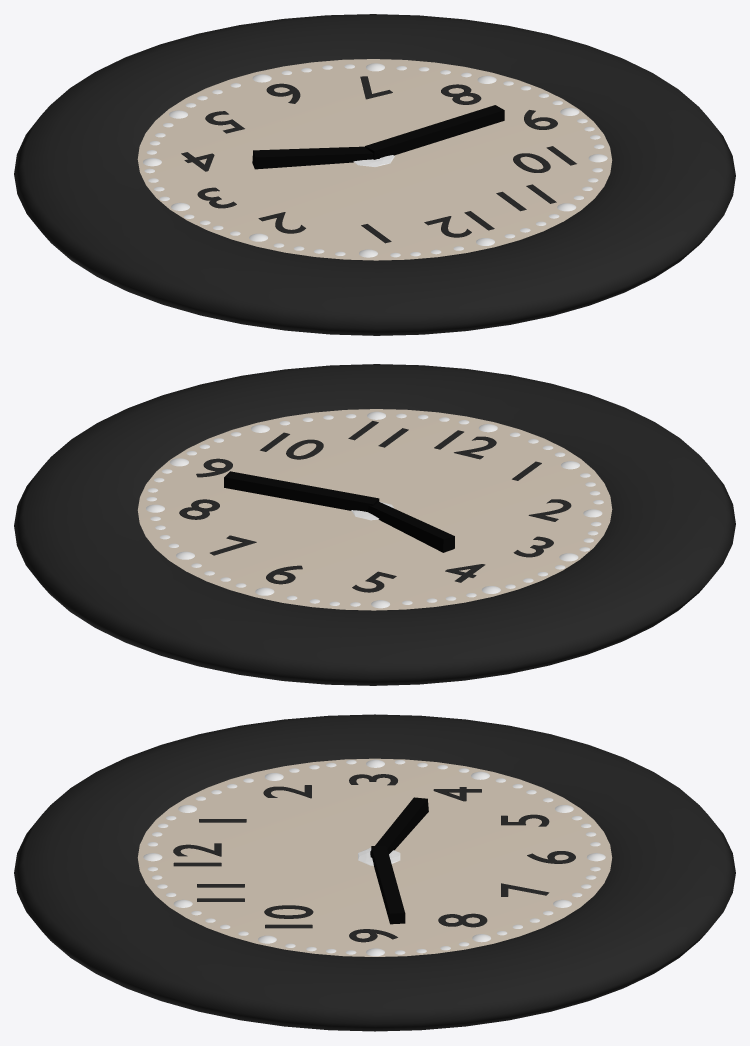
File: LBSR_Clock.fbx
3 renders of one model, top to bottom at view 1: azimuth 30°, elevation 25°; view 2: azimuth 150°, elevation 25°; view 3: azimuth 270°, elevation 25°, orthographic.
Parts seen in each view (by area): view 1: Torus, Cylinder, Cube, Cube.001, Text.011, Text; view 2: Torus, Cylinder, Cube, Cube.001, Text.011, Text; view 3: Torus, Cylinder, Cube, Cube.001, Text.011, Text.
Boxes of the visible parts, x1,y1,x2,y2 form: Torus: [14, 14, 735, 335]; Cylinder: [137, 59, 612, 260]; Cube: [365, 105, 504, 159]; Cube.001: [252, 146, 379, 169]; Text.011: [513, 146, 576, 172]; Text: [424, 211, 494, 237]; Torus: [14, 364, 735, 685]; Cylinder: [137, 409, 612, 610]; Cube: [224, 471, 379, 511]; Cube.001: [367, 502, 454, 552]; Text.011: [260, 432, 323, 459]; Text: [434, 430, 496, 459]; Torus: [14, 714, 735, 1031]; Cylinder: [137, 758, 612, 956]; Cube: [371, 845, 405, 924]; Cube.001: [370, 797, 428, 857]; Text.011: [264, 905, 313, 928]; Text: [173, 843, 221, 866].
Size of the model in its own units: 10.39 by 0.8237 by 10.5.
